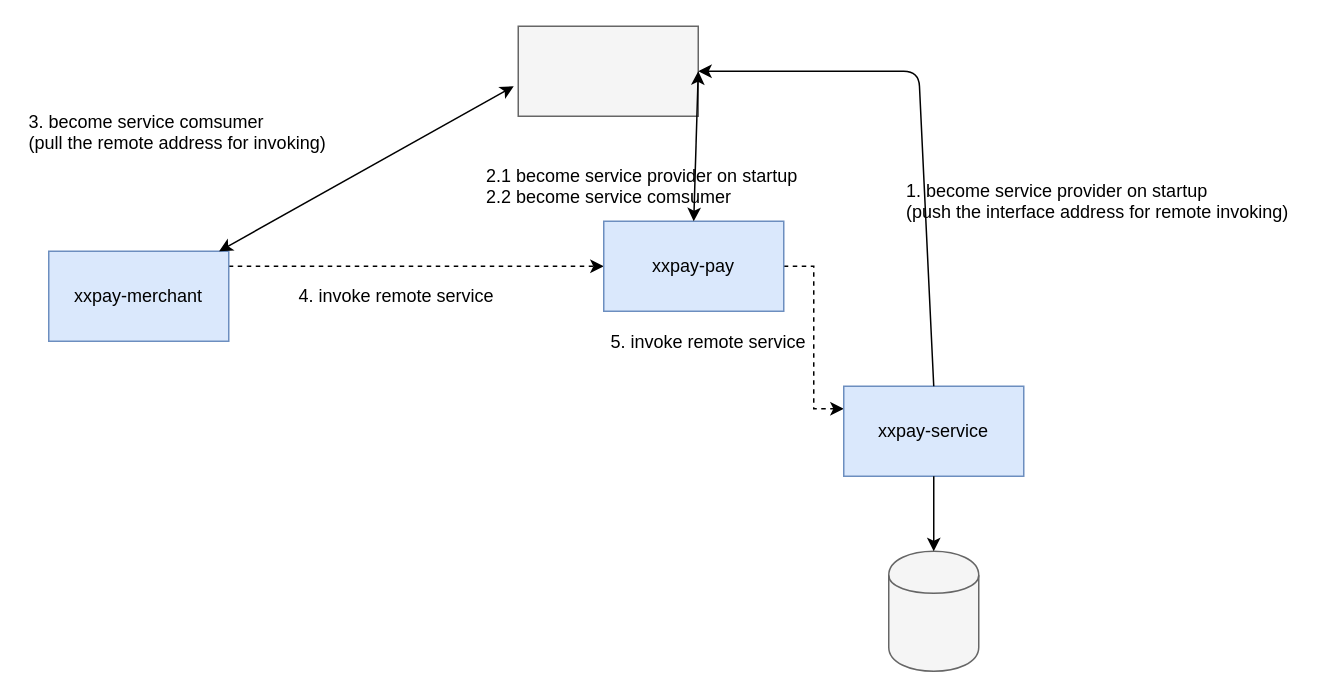
The diagram is 1334 pixels wide and 698 high, and some of its shapes have lost their labels. The shapes that lost their labels are listed below. From the top down, each one's centre as x and y in pixels, then its label:
the point at 607,70: dubbo&zookeeper
the point at 933,610: db
